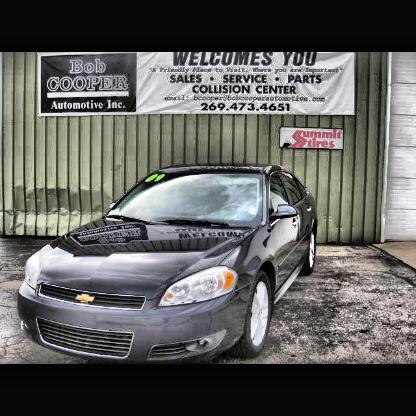Chevrolet Impala Sedan 2007: (24, 168, 321, 365)
